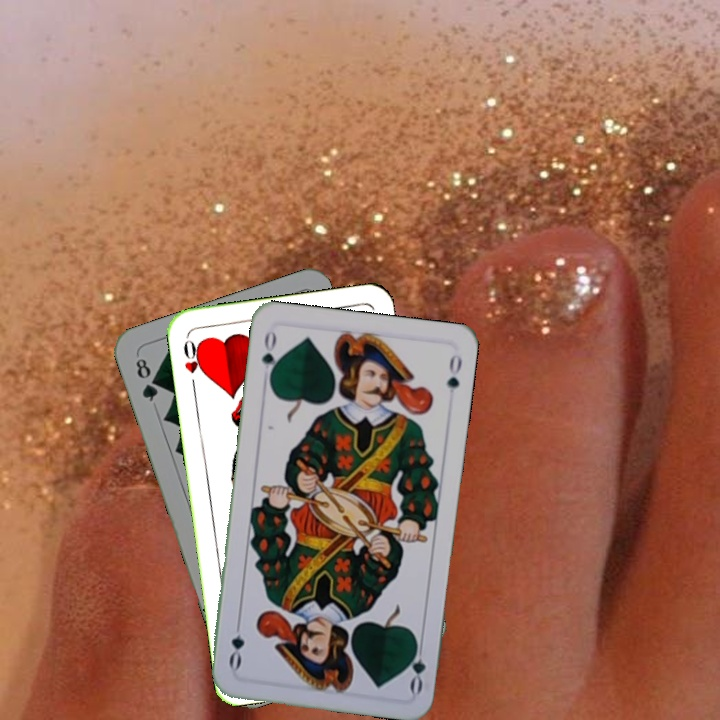G8: (131, 354, 161, 405)
GO: (403, 636, 428, 696), (257, 327, 281, 386)
HO: (179, 333, 207, 392)
